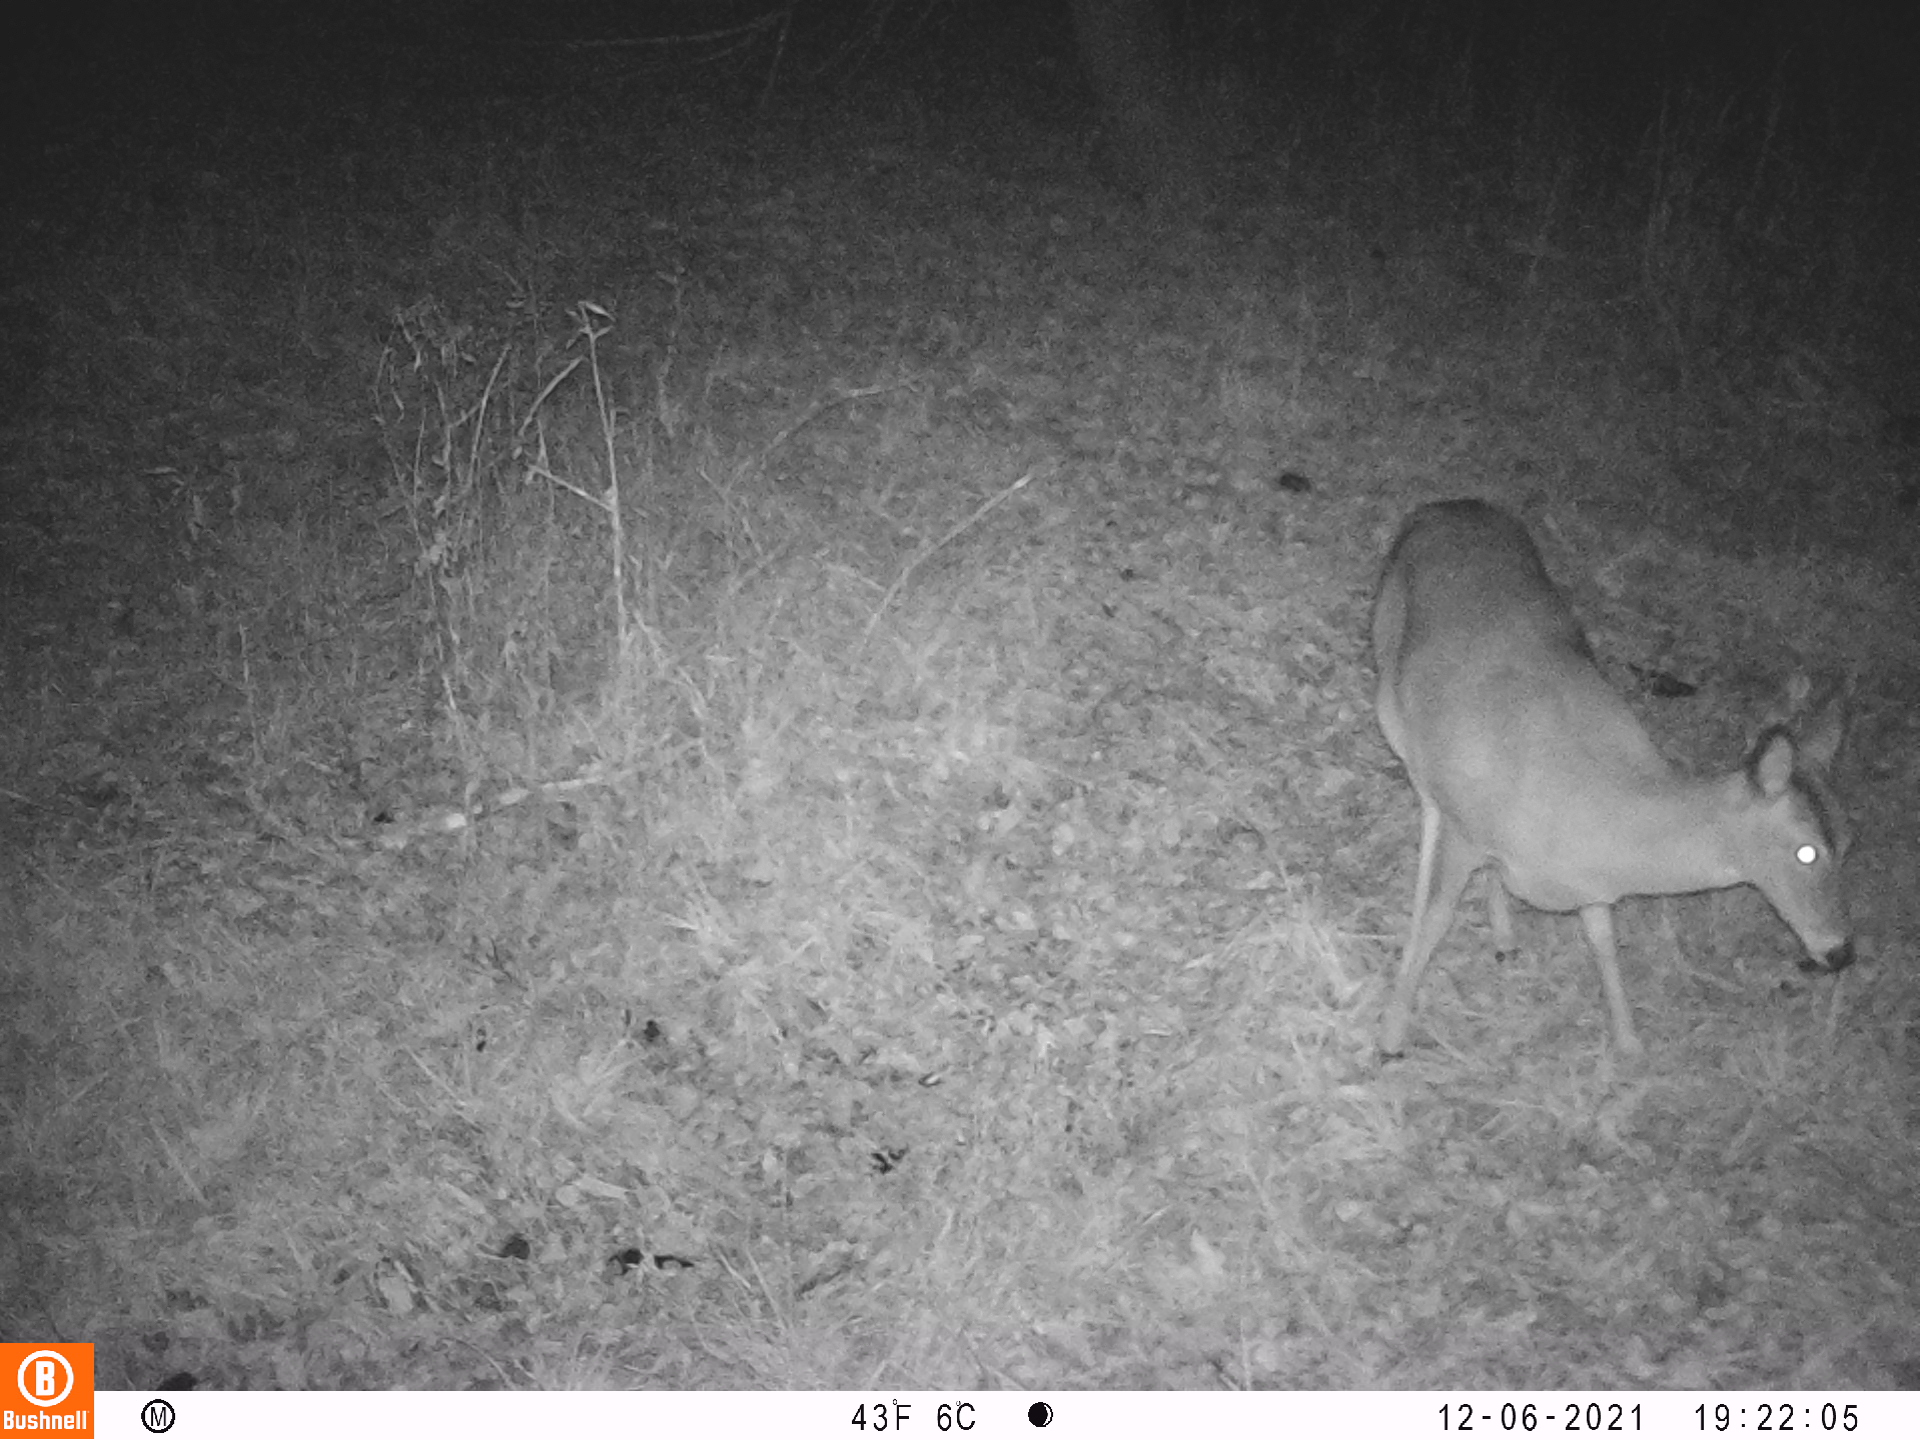DeerDoe: (1370, 499, 1860, 1063)
